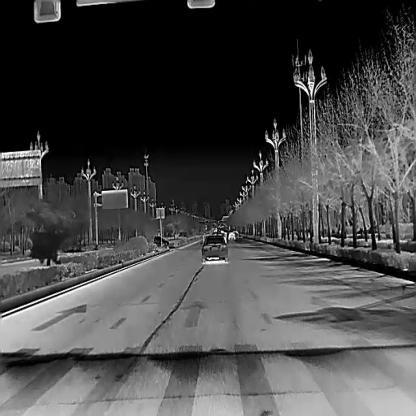car: (200, 235, 228, 262), (150, 234, 169, 248), (217, 232, 226, 242), (228, 232, 236, 240), (179, 231, 187, 236), (213, 228, 217, 232), (212, 232, 216, 236)
